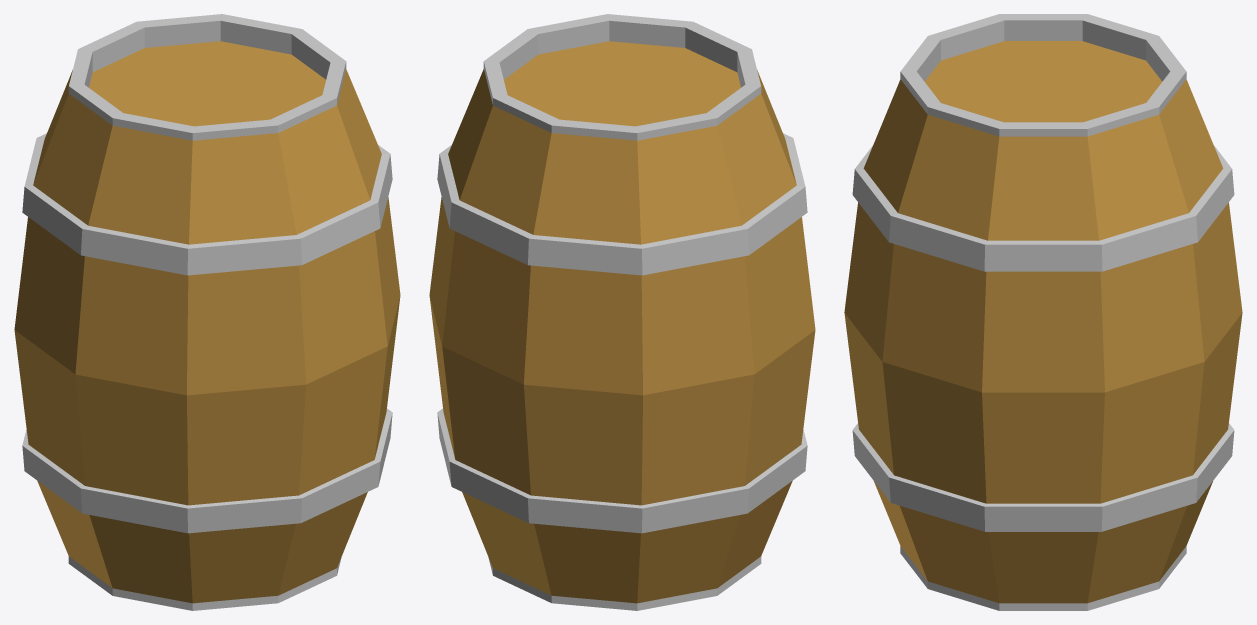
The model's file is Low_Poly_Barrel_01.fbx.
3 views of the same model, side by side, from view 1: azimuth 30°, elevation 25°; view 2: azimuth 150°, elevation 25°; view 3: azimuth 270°, elevation 25° (orthographic).
Visible parts, largest first — view 1: Low_Poly_Barrel_01; view 2: Low_Poly_Barrel_01; view 3: Low_Poly_Barrel_01.
Part boxes in pixels (<box>): Low_Poly_Barrel_01: <box>14,14,400,610</box>; Low_Poly_Barrel_01: <box>429,14,815,610</box>; Low_Poly_Barrel_01: <box>844,14,1242,610</box>.
Bounding box in the file's own units: 70.97 × 99.68 × 74.62.
